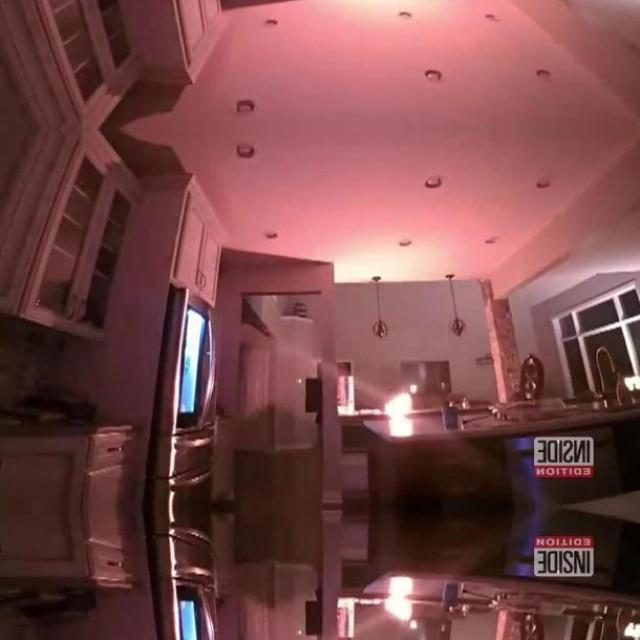smoke: (384, 596, 418, 632), (384, 382, 418, 417)
